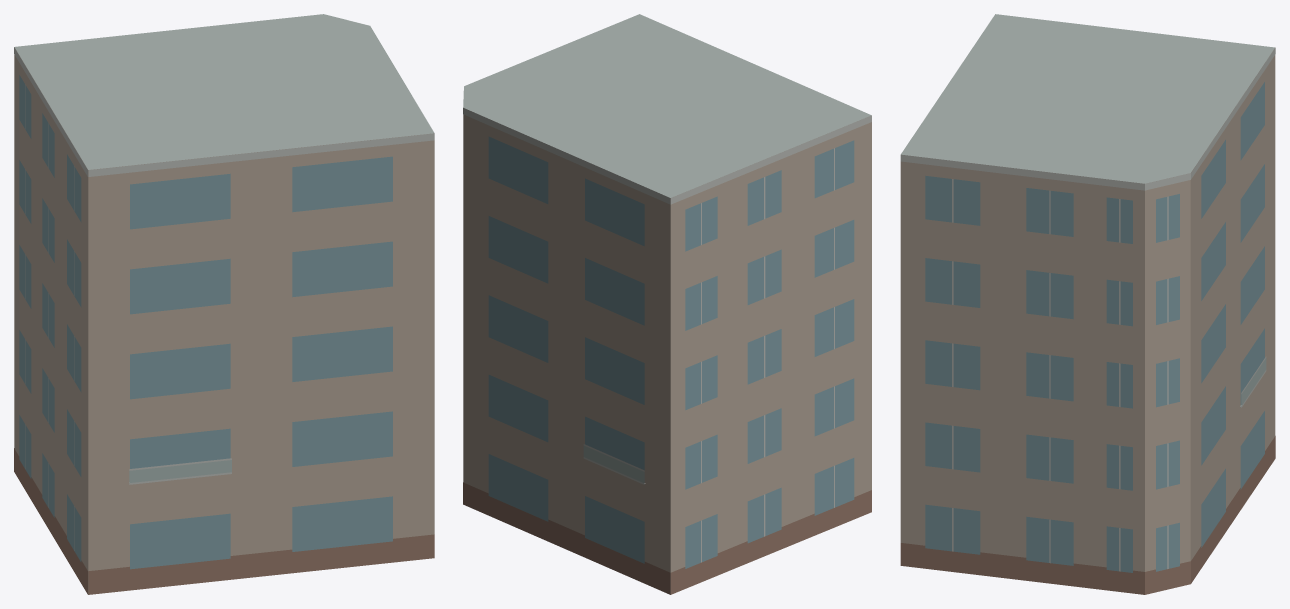
File: survey-upis-32874174.glb
3 renders of one model, left to right at view 1: azimuth 30°, elevation 25°; view 2: azimuth 150°, elevation 25°; view 3: azimuth 270°, elevation 25°, orthographic. The views are drawn at different scales.
Visible parts, largest first — view 1: survey-upis-32874174.tmp; view 2: survey-upis-32874174.tmp; view 3: survey-upis-32874174.tmp.
Part boxes in pixels (box(x1,y1,x2,y2)): survey-upis-32874174.tmp: box(14, 14, 434, 594); survey-upis-32874174.tmp: box(463, 14, 871, 594); survey-upis-32874174.tmp: box(900, 14, 1275, 594).
Size of the model in its own units: 12.94 by 14.6 by 12.07.
